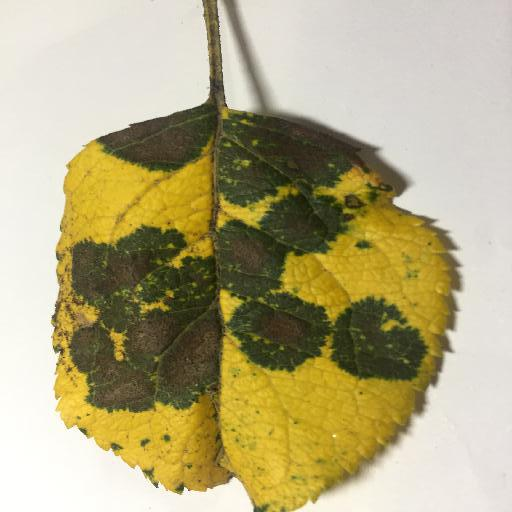Brown_Spot: (62, 218, 216, 423), (248, 125, 328, 186), (108, 118, 193, 160), (220, 228, 273, 289), (245, 306, 310, 353), (283, 202, 325, 245)
